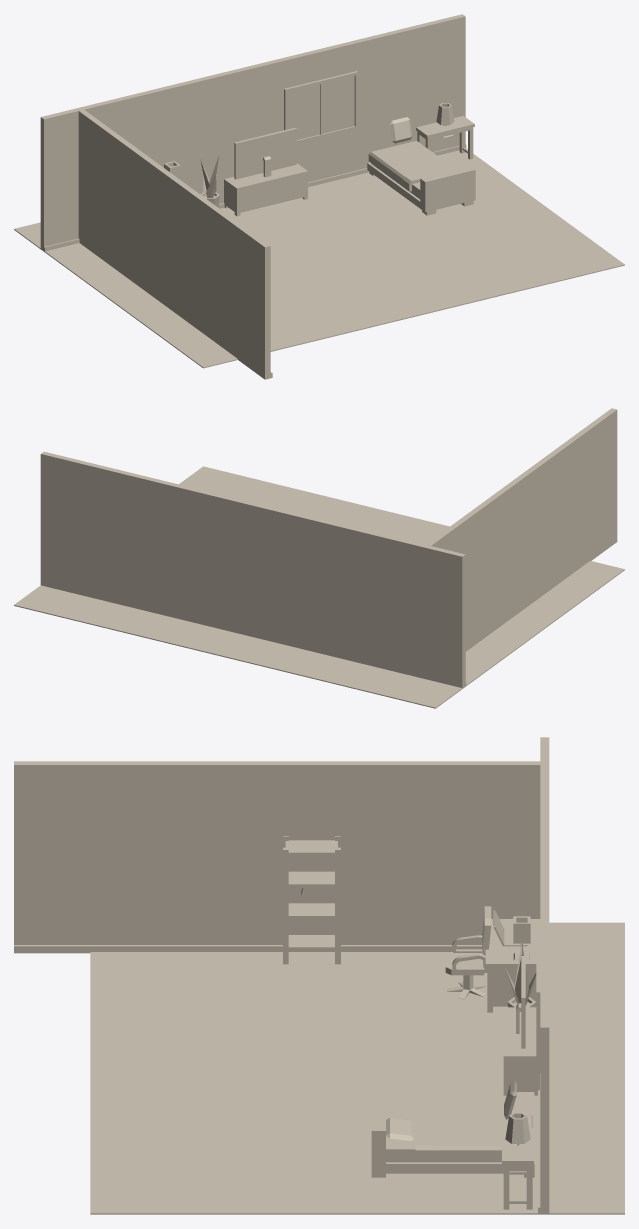
The model's file is room.glb.
The picture shows the model from 3 angles, top to bottom: view 1: azimuth 30°, elevation 25°; view 2: azimuth 150°, elevation 25°; view 3: azimuth 270°, elevation 25°; orthographic projection. The views are drawn at different scales.
Visible parts, largest first — view 1: Set_room; view 2: Set_room; view 3: Set_room.
Part boxes in pixels (x1,y1,x2,y2): Set_room: (14,14,624,379); Set_room: (14,408,624,708); Set_room: (14,737,624,1214).
Bounding box in the file's own units: 9 × 2.7 × 8.
